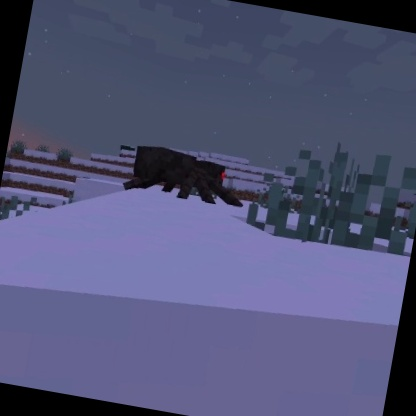spider: (121, 139, 253, 213)
